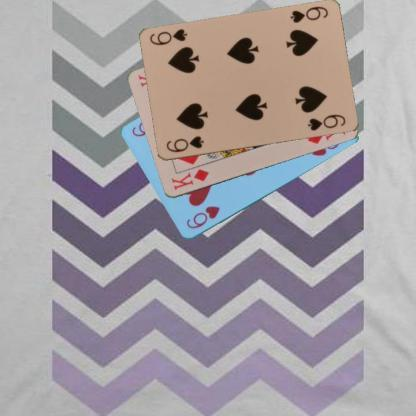6h: (183, 204, 221, 231)
6s: (164, 134, 206, 154), (287, 4, 329, 24)
Kd: (168, 166, 210, 192)
